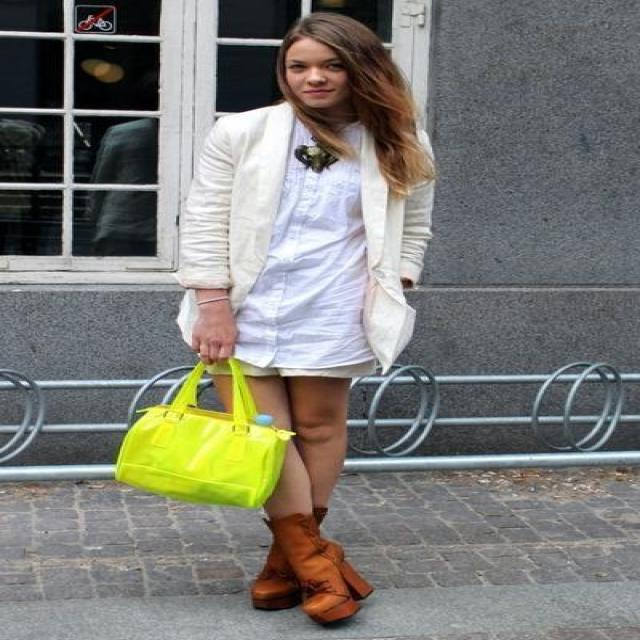bag: (112, 361, 294, 506)
jacket: (173, 102, 432, 360)
shirt: (176, 126, 384, 375)
shoe: (230, 504, 373, 630)
shorts: (212, 356, 382, 396)
